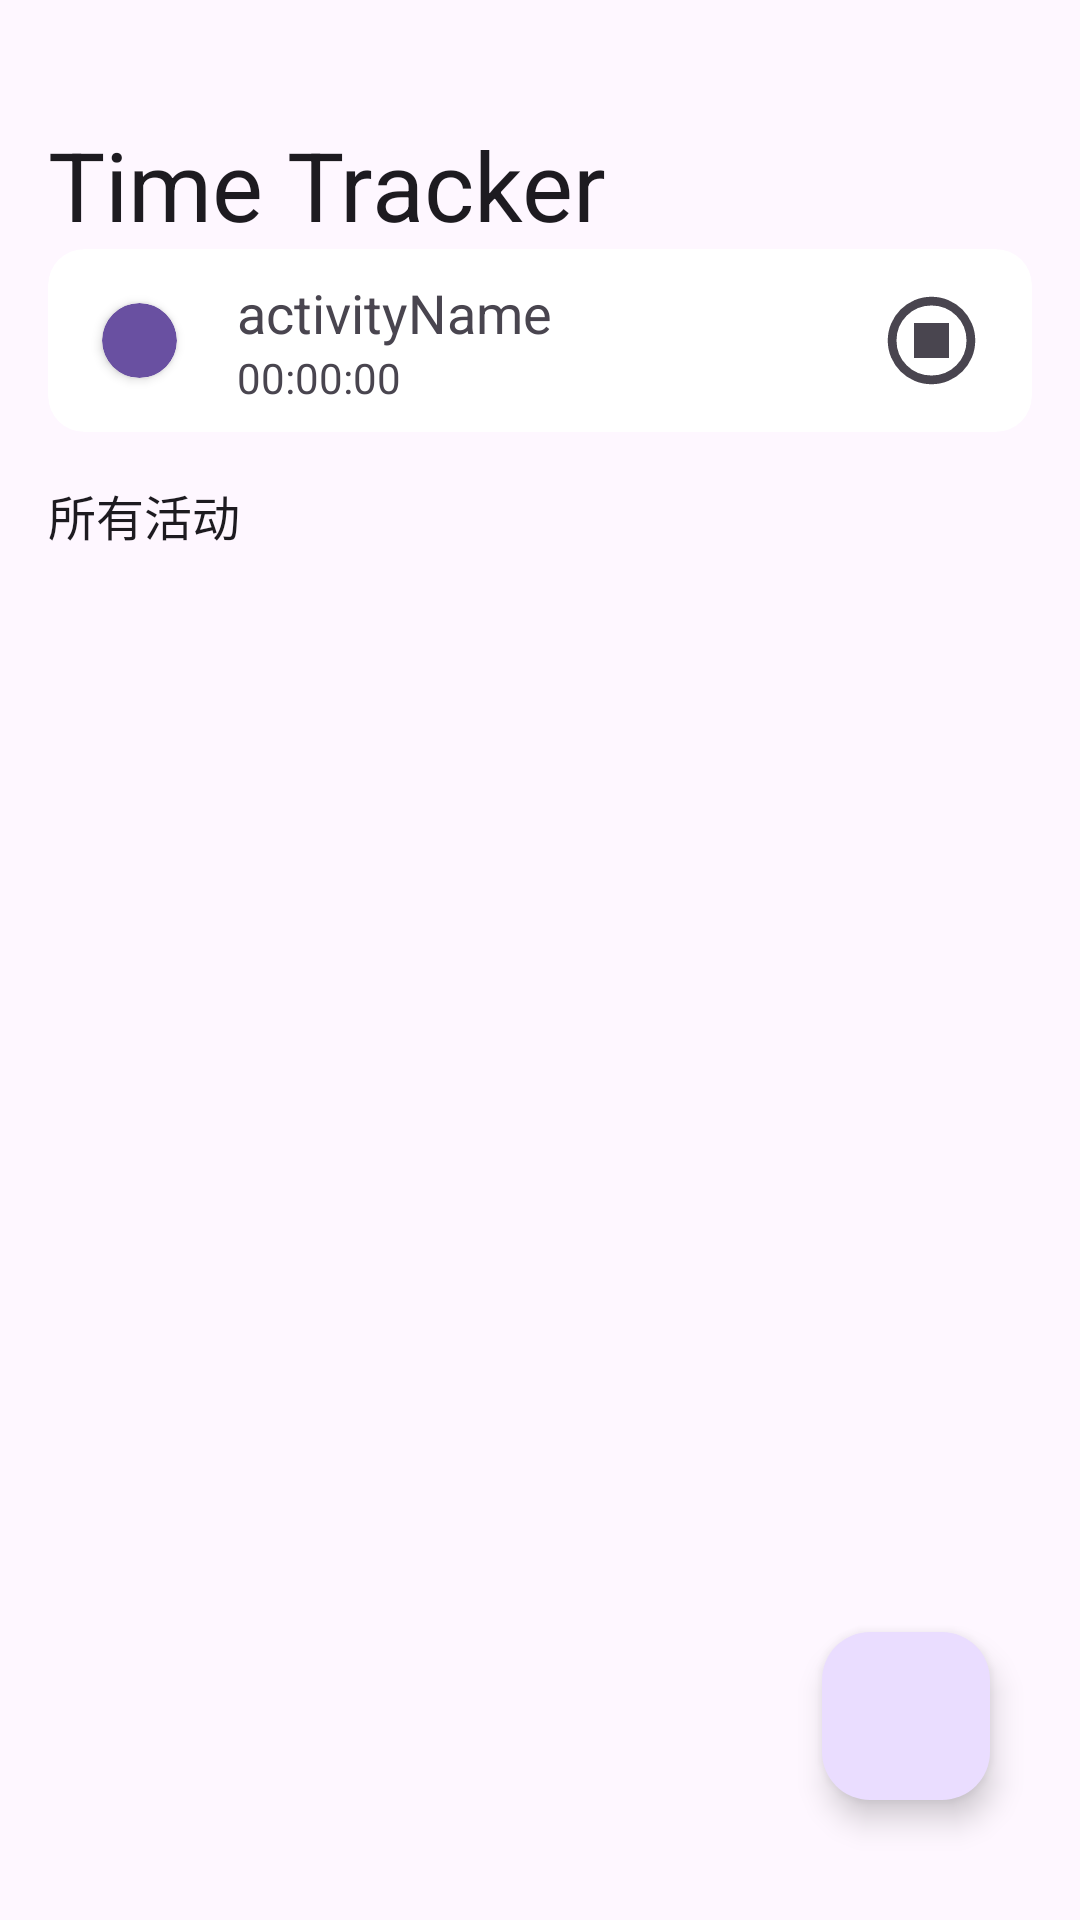

Icons on this 1080x1920 Android screen, each with its box as [left=x1, top=y1, right=x2, bottom=y2]:
stop: [left=887, top=296, right=976, bottom=385]
